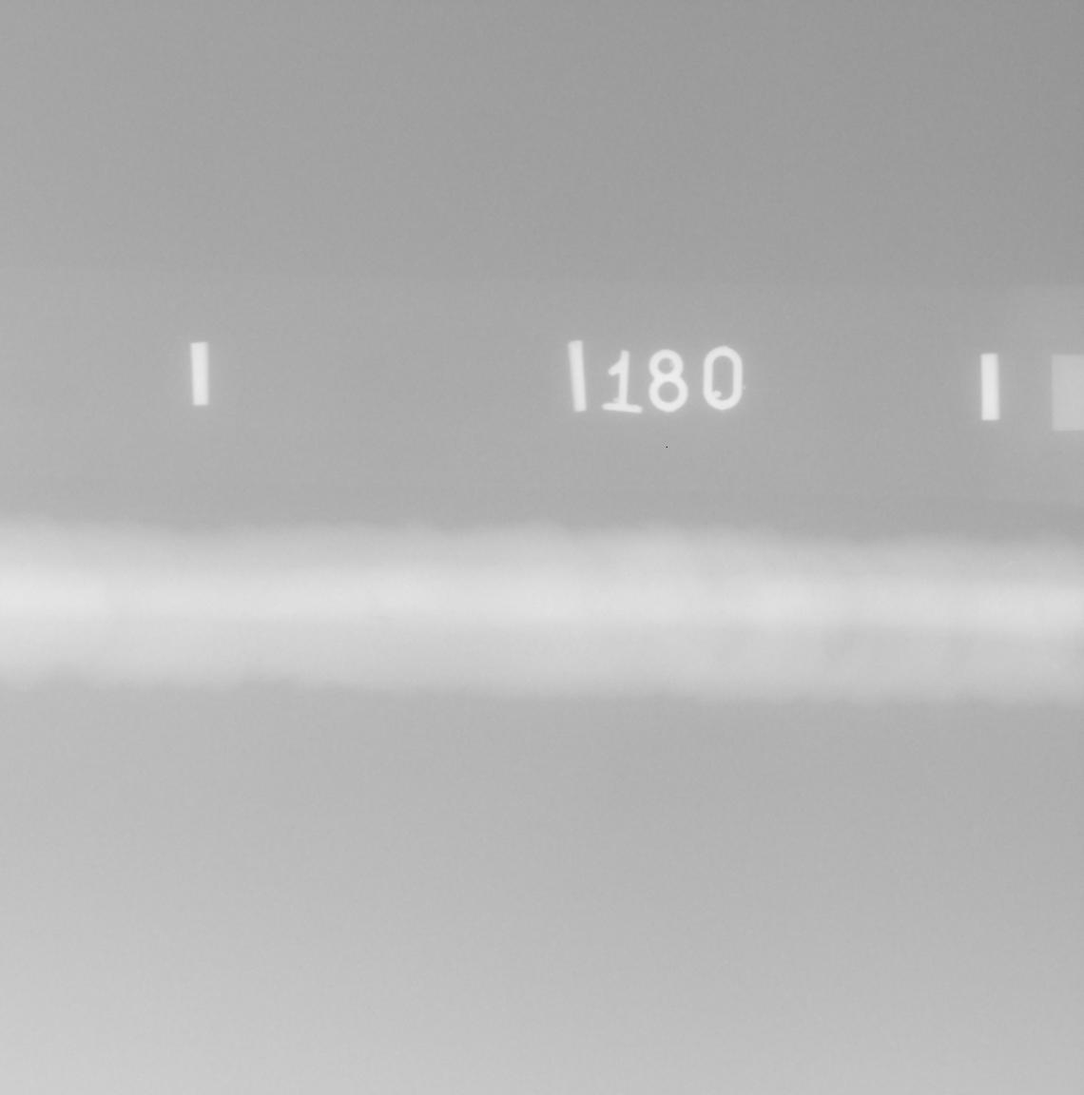Inclusion: (373, 616, 393, 621)
